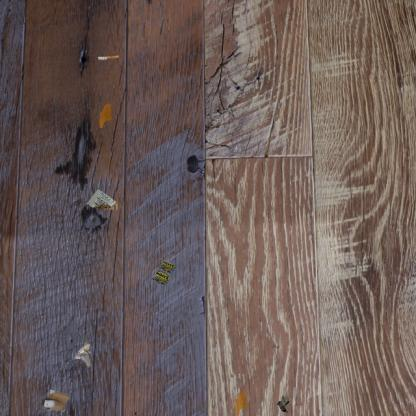dirty: (84, 187, 119, 212), (38, 388, 71, 414), (150, 258, 177, 288), (72, 340, 93, 368), (275, 392, 292, 415), (96, 54, 120, 62)
liquid: (234, 390, 248, 415), (99, 103, 112, 128)
